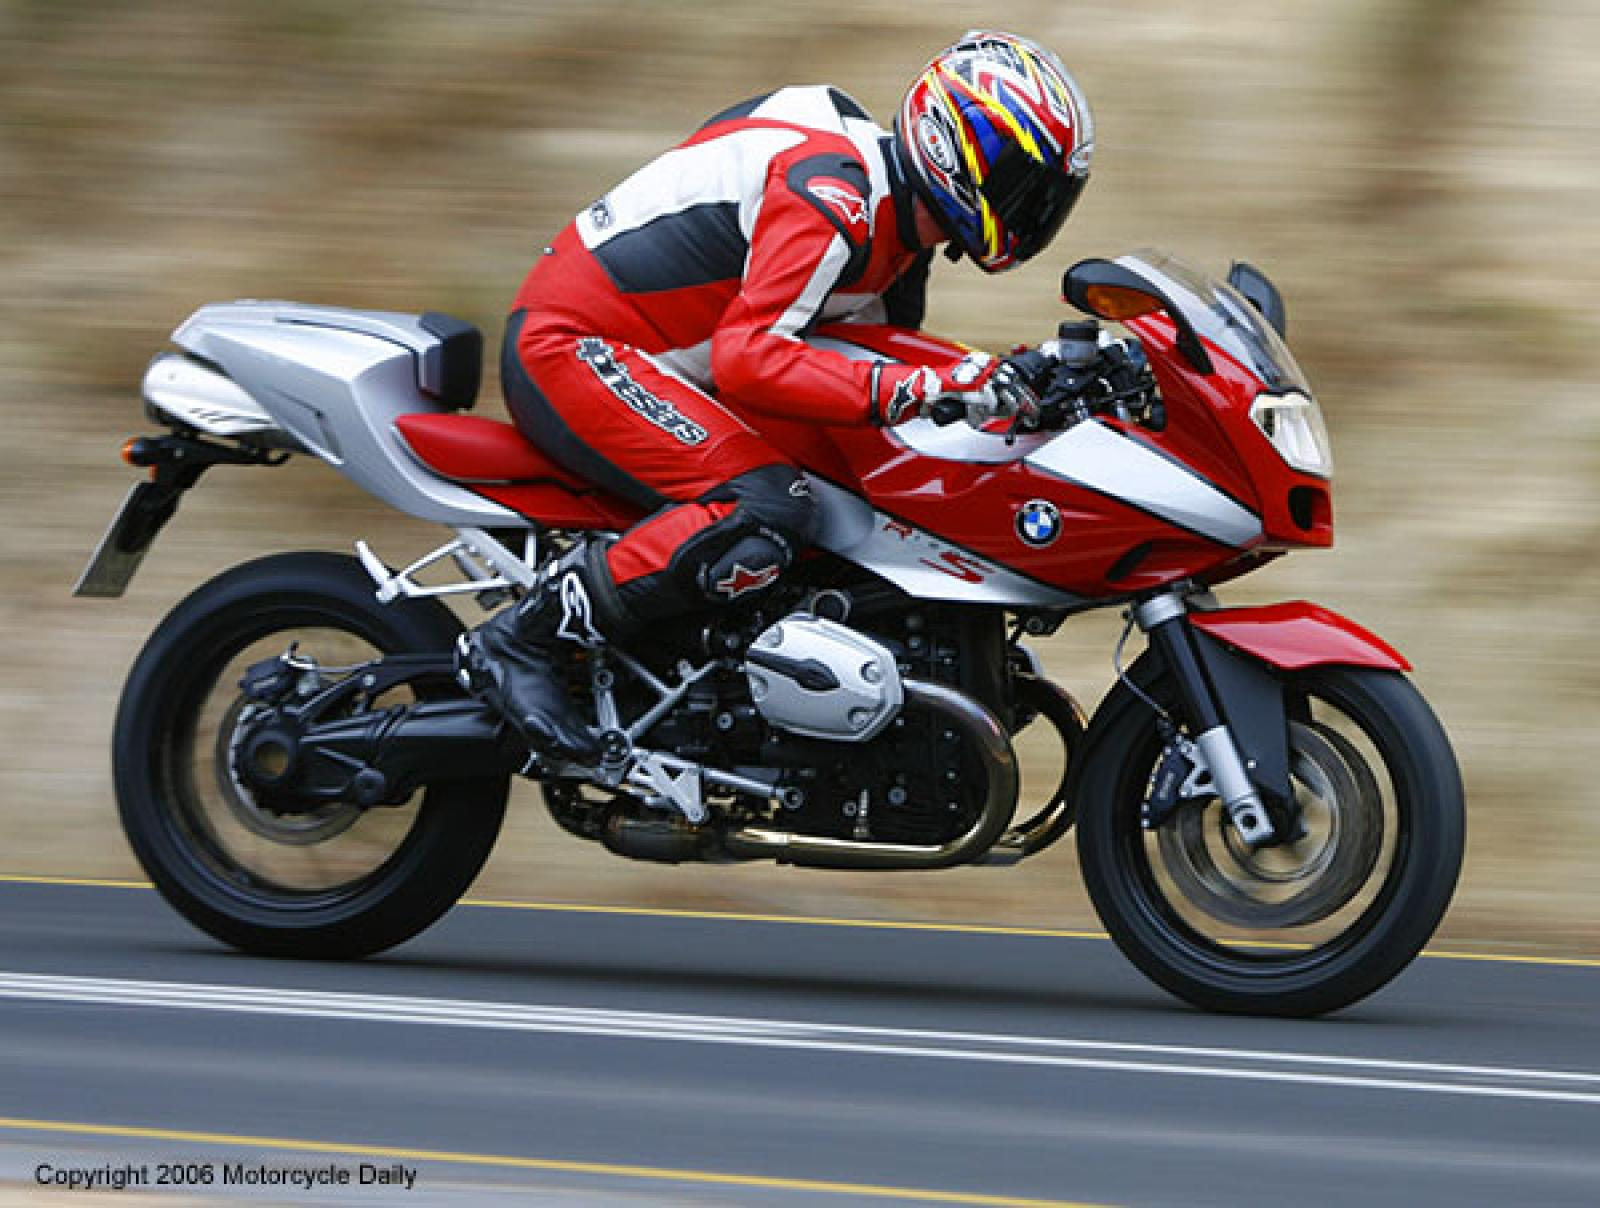helmet: (881, 16, 1094, 283)
